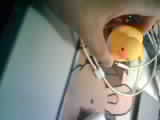duck: (103, 16, 144, 64)
